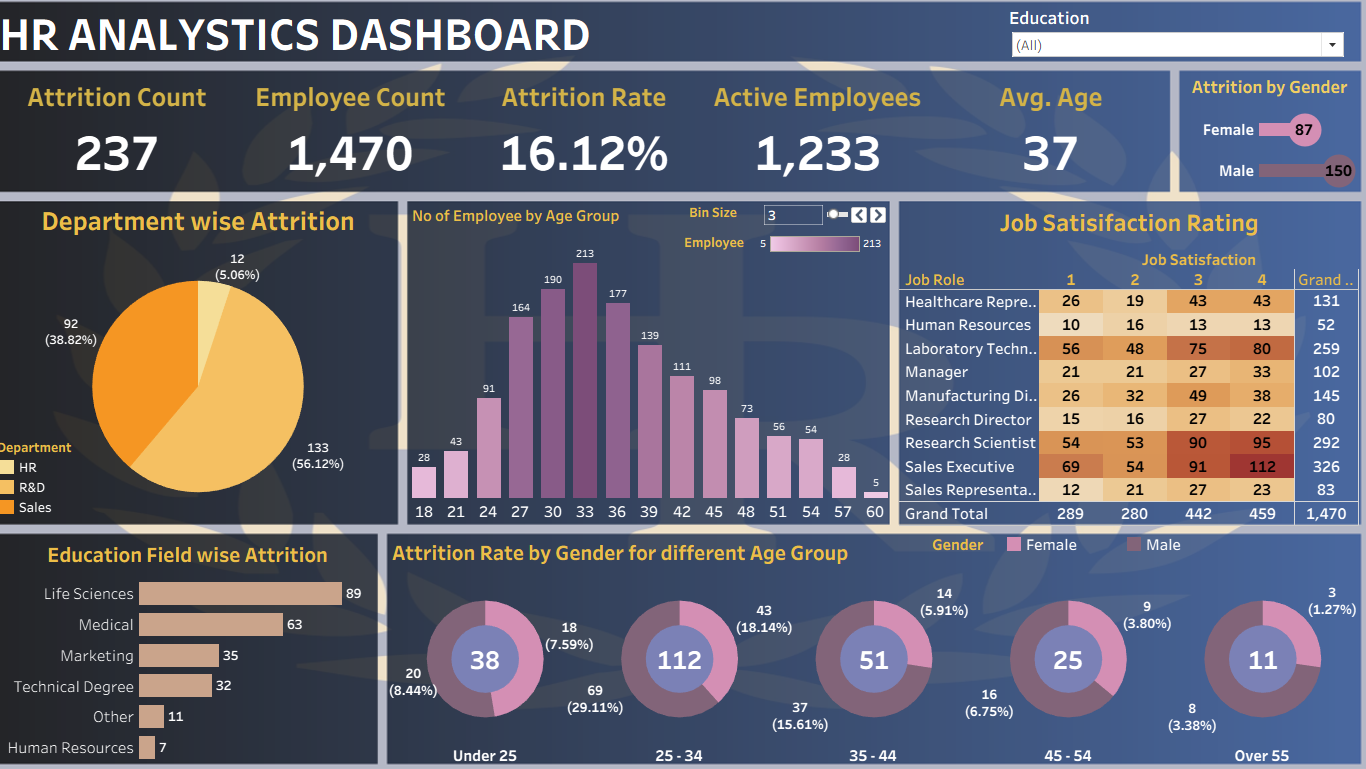

This screenshot's page, from the dashboard's own definition file:
{"tool":"tableau","page":{"name":"HR Analystics Dashboard","canvas":[1000,1000],"units":"permille","ordinal":0},"visuals":[{"type":"image","param":"C:/Users/VIKAS Y C/Downloads/HR background.pptx (1).png","box":[5.7,10,988.6,980]},{"type":"text","box":[12.1,26.2,973.6,73.6]},{"type":"filter","title":"Department wise Attrition","param":"[federated.0x50fii0s5v52x1b3z0ex1s6folc].[none:Education:nk]","box":[735.7,28.7,241.4,67.3]},{"type":"worksheet","title":"Attrition by Gender","mark":"Automatic","rows":["Gender"],"cols":["Calculation_1430174383522312192","Calculation_1430174383522312192"],"box":[857.1,111,129.3,149.6]},{"type":"worksheet","title":"KPI","mark":"Automatic","box":[15,113.5,834.3,144.6]},{"type":"worksheet","title":"Department wise Attrition","mark":"Pie","box":[13.6,270.6,285.7,406.5]},{"type":"worksheet","title":"No of Employee by Age Group","mark":"Automatic","rows":["Employee Count"],"cols":["Age (bin)"],"box":[306.4,273.1,345.7,401.5]},{"type":"parameter","param":"[Parameters].[Parameter 1]","box":[507.1,274.3,142.9,32.4]},{"type":"worksheet","title":"Job Satisifaction Rating","mark":"Square","rows":["Job Role"],"cols":["Job Satisfaction"],"box":[657.1,274.3,328.6,404]},{"type":"legend","title":"No of Employee by Age Group","param":"[federated.0x50fii0s5v52x1b3z0ex1s6folc].[sum:Employee Count:qk]","box":[503.6,311.7,144.3,24.9]},{"type":"legend","title":"Department wise Attrition","param":"[federated.0x50fii0s5v52x1b3z0ex1s6folc].[none:Department:nk]","box":[12.9,568.6,62.1,106]},{"type":"worksheet","title":"Attrition Rate by Gender for different Age Group","mark":"Pie","rows":["Calculation_1498009853127118851","Calculation_1498009853127118851"],"cols":["CF_age band"],"box":[292.1,688.3,695,290.5]},{"type":"legend","title":"Attrition Rate by Gender for different Age Group","param":"[federated.0x50fii0s5v52x1b3z0ex1s6folc].[none:Gender:nk]","box":[680.7,688.3,238.6,31.2]},{"type":"worksheet","title":"Education Field wise Attrition","mark":"Automatic","rows":["Education Field"],"cols":["Calculation_1430174383522312192"],"box":[14.3,690.8,269.3,283]}]}

Visuals, with their boxes on the dashboard's canvas, which has no fixed pixel size, in thousandths of its width and height (x1, y1, x2, y2). These are canvas units, not pixel positions in the 1366x769 screenshot, which may show the page scaled, cropped or inside an application window:
image: [left=6, top=10, right=994, bottom=990]
text: [left=12, top=26, right=986, bottom=100]
"Department wise Attrition" filter: [left=736, top=29, right=977, bottom=96]
"Attrition by Gender" worksheet: [left=857, top=111, right=986, bottom=261]
"KPI" worksheet: [left=15, top=114, right=849, bottom=258]
"Department wise Attrition" worksheet (Pie marks): [left=14, top=271, right=299, bottom=677]
"No of Employee by Age Group" worksheet: [left=306, top=273, right=652, bottom=675]
parameter: [left=507, top=274, right=650, bottom=307]
"Job Satisifaction Rating" worksheet (Square marks): [left=657, top=274, right=986, bottom=678]
"No of Employee by Age Group" legend: [left=504, top=312, right=648, bottom=337]
"Department wise Attrition" legend: [left=13, top=569, right=75, bottom=675]
"Attrition Rate by Gender for different Age Group" worksheet (Pie marks): [left=292, top=688, right=987, bottom=979]
"Attrition Rate by Gender for different Age Group" legend: [left=681, top=688, right=919, bottom=720]
"Education Field wise Attrition" worksheet: [left=14, top=691, right=284, bottom=974]
